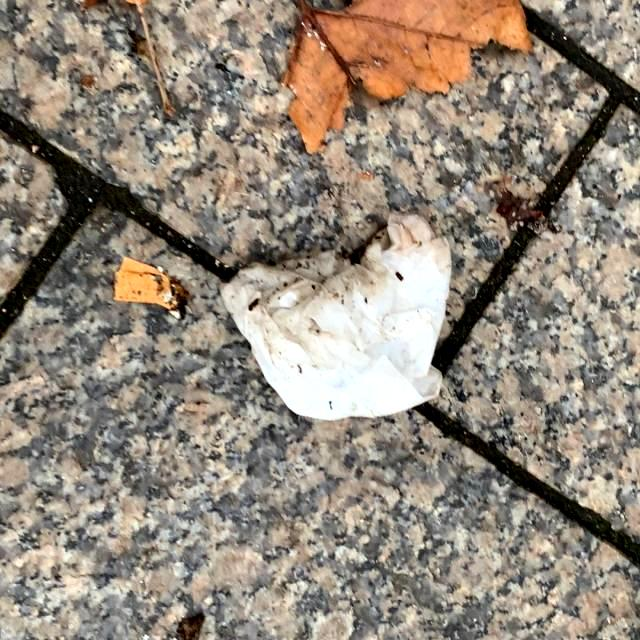Paper: (215, 208, 448, 424)
